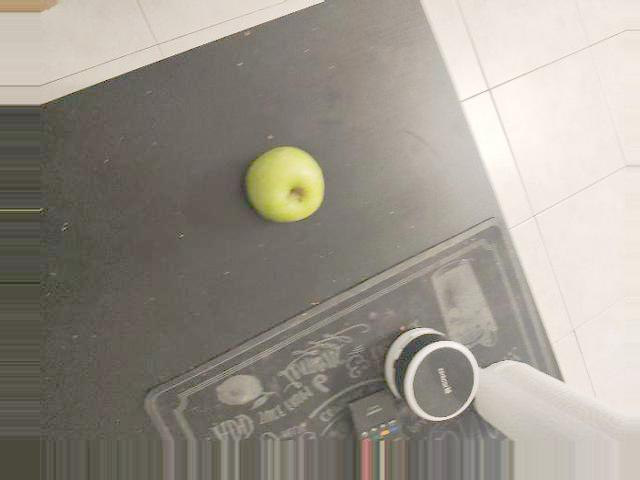apple: (221, 139, 343, 234)
